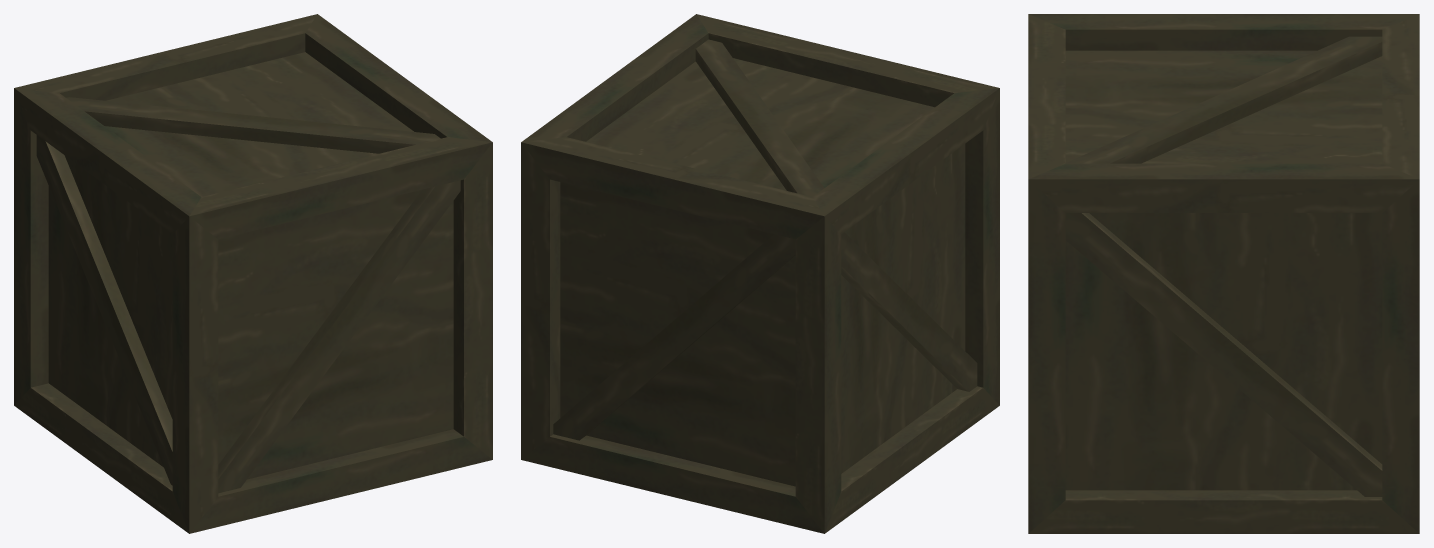
The model's file is ScatterBoxC01.fbx.
The picture shows the model from 3 angles, left to right: view 1: azimuth 30°, elevation 25°; view 2: azimuth 150°, elevation 25°; view 3: azimuth 270°, elevation 25°; orthographic projection. The views are drawn at different scales.
Parts seen in each view (by area): view 1: ScatterBoxC01; view 2: ScatterBoxC01; view 3: ScatterBoxC01.
Boxes of the visible parts, left/top/right/bottom form: ScatterBoxC01: left=14, top=14, right=492, bottom=533; ScatterBoxC01: left=521, top=14, right=999, bottom=533; ScatterBoxC01: left=1028, top=14, right=1419, bottom=533.
Size of the model in its own units: 72 by 72 by 72.
